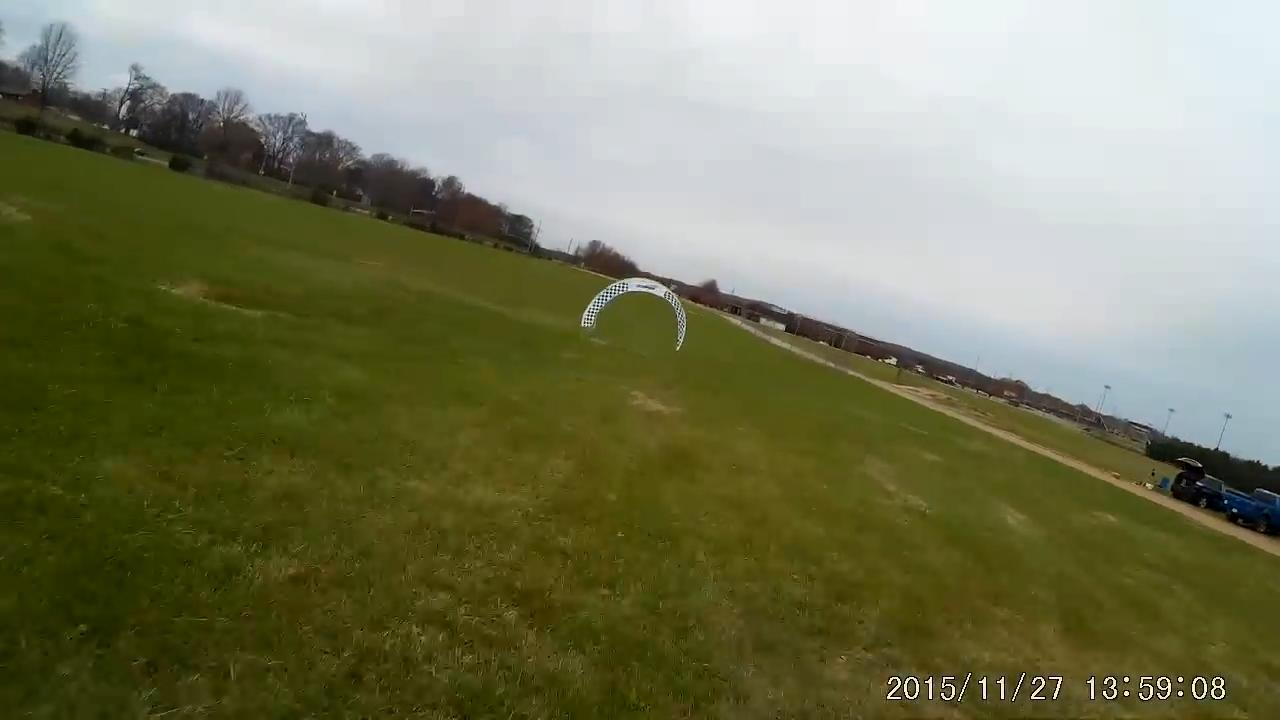gate: (578, 278, 685, 353)
